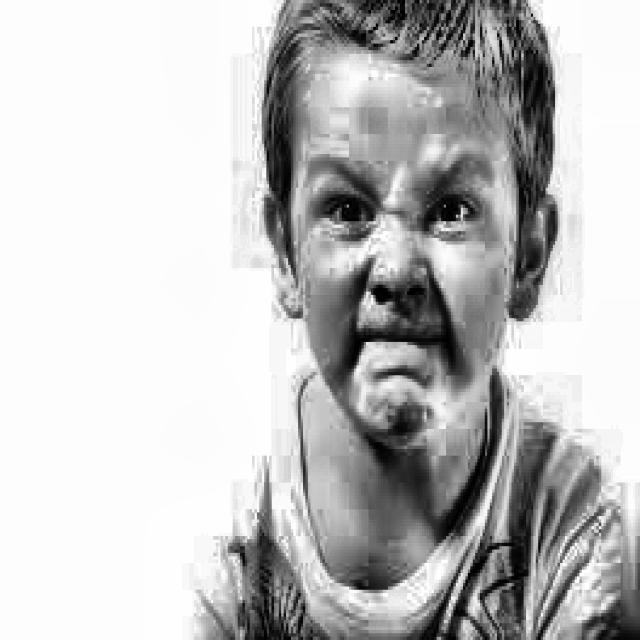angry: (239, 1, 574, 457)
